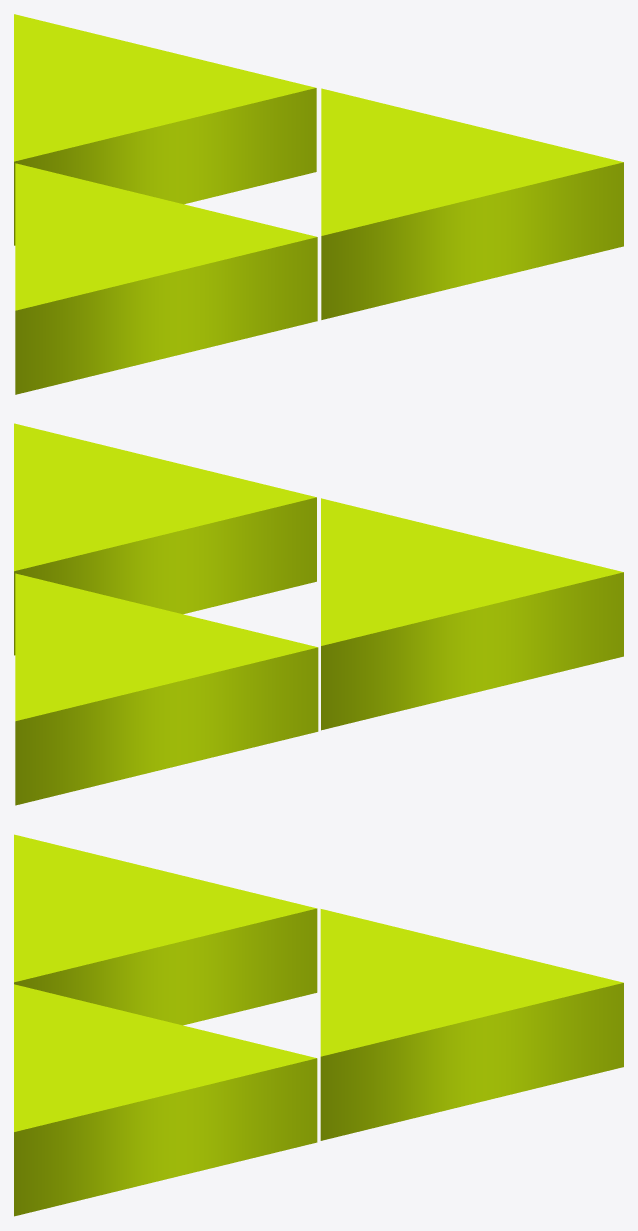
File: TriForce.FBX
3 views of the same model, one above another, from view 1: azimuth 30°, elevation 25°; view 2: azimuth 150°, elevation 25°; view 3: azimuth 270°, elevation 25° (orthographic).
Parts seen in each view (by area): view 1: Cylinder003, Cylinder002, Cylinder001; view 2: Cylinder001, Cylinder002, Cylinder003; view 3: Cylinder001, Cylinder003, Cylinder002.
Part boxes in pixels (x1,y1,x2,y2): Cylinder003: [321, 88, 623, 319]; Cylinder002: [15, 163, 317, 394]; Cylinder001: [14, 14, 316, 245]; Cylinder001: [15, 573, 318, 805]; Cylinder002: [321, 498, 623, 730]; Cylinder003: [14, 423, 316, 655]; Cylinder001: [320, 909, 623, 1140]; Cylinder003: [14, 984, 317, 1216]; Cylinder002: [14, 834, 317, 1025].
Bounding box in the file's own units: 50.55 × 6.67 × 43.77.
